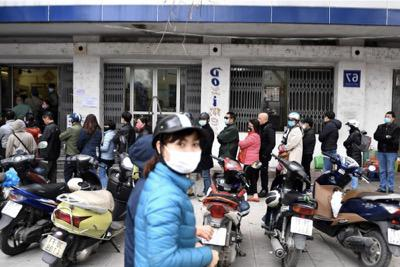with_mask: (162, 136, 202, 177), (198, 117, 206, 128), (383, 115, 391, 124), (223, 116, 230, 126), (287, 119, 295, 127), (246, 123, 252, 133), (135, 120, 141, 130), (40, 103, 47, 110), (301, 122, 307, 130), (47, 87, 54, 93), (102, 124, 107, 132), (119, 117, 123, 125), (22, 119, 26, 126), (347, 124, 350, 133)
without_mask: (256, 115, 265, 125), (41, 117, 48, 126)
